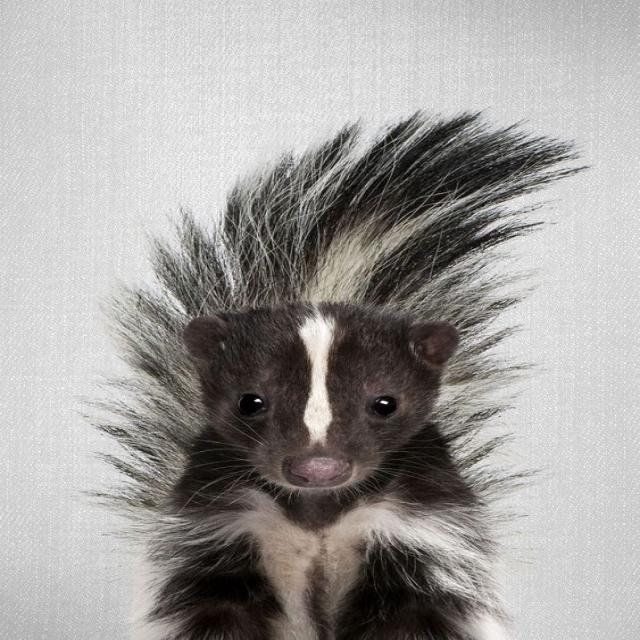Skunk: (104, 104, 583, 640)
